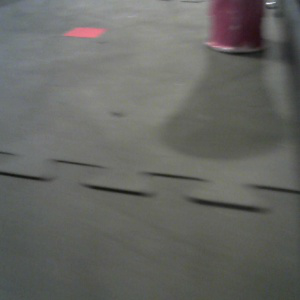Right: (207, 1, 266, 55)
